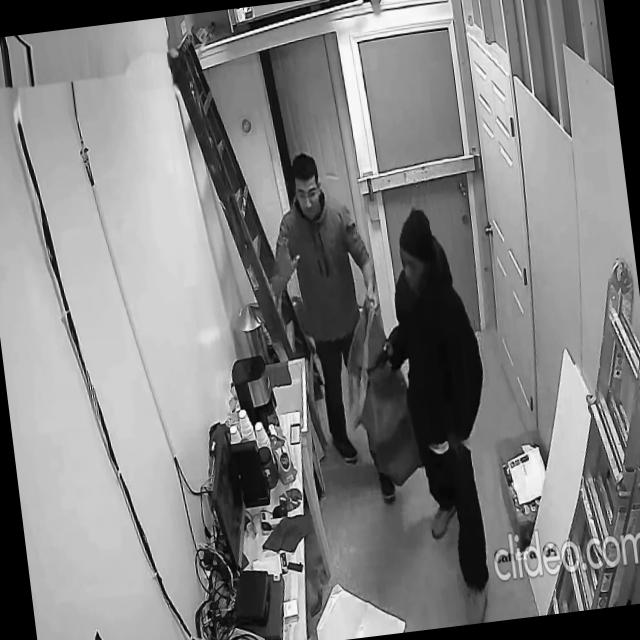gun: (372, 336, 394, 371)
person: (365, 198, 514, 630), (256, 145, 404, 514)
person with a gun: (356, 199, 514, 631)
